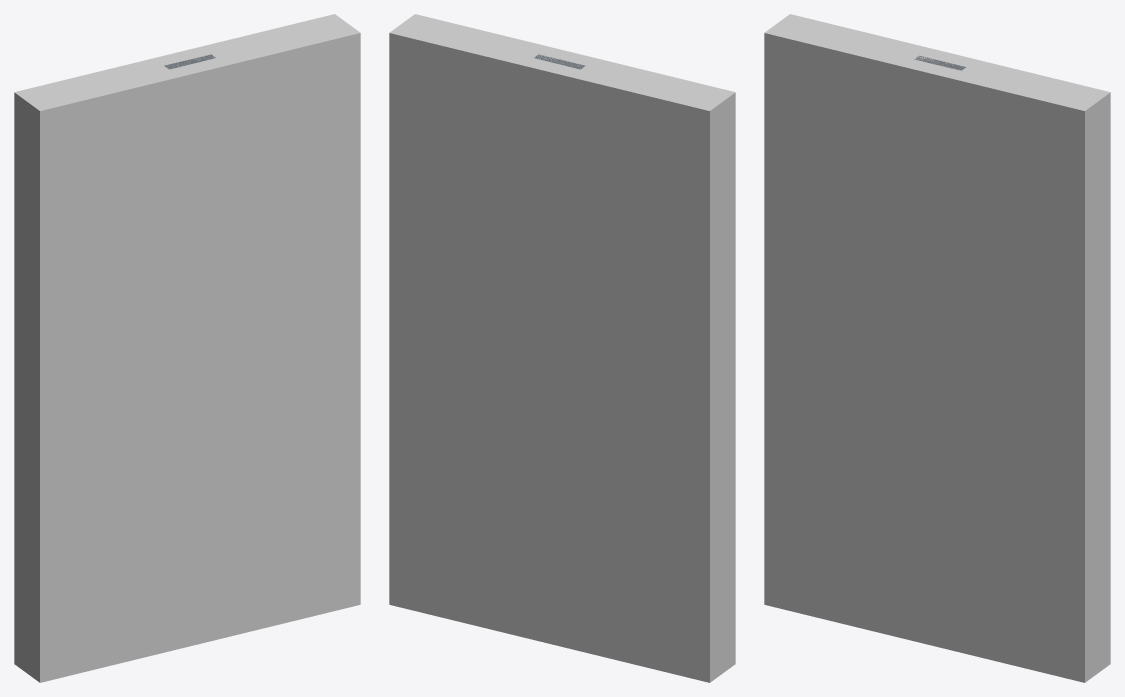
File: FMS_Tool_Sickle.fbx
3 renders of one model, left to right at view 1: azimuth 30°, elevation 25°; view 2: azimuth 150°, elevation 25°; view 3: azimuth 330°, elevation 25°, orthographic.
Parts seen in each view (by area): view 1: FMS_Tool_Sickle_Col; view 2: FMS_Tool_Sickle_Col; view 3: FMS_Tool_Sickle_Col.
Boxes of the visible parts, x1=… form: FMS_Tool_Sickle_Col: x1=14, y1=14, x2=360, y2=682; FMS_Tool_Sickle_Col: x1=389, y1=14, x2=735, y2=682; FMS_Tool_Sickle_Col: x1=764, y1=14, x2=1110, y2=682.
Size of what is drawn, in the model's own units: 0.2791 by 0.4756 by 0.039.
1 material, 1 textured.
